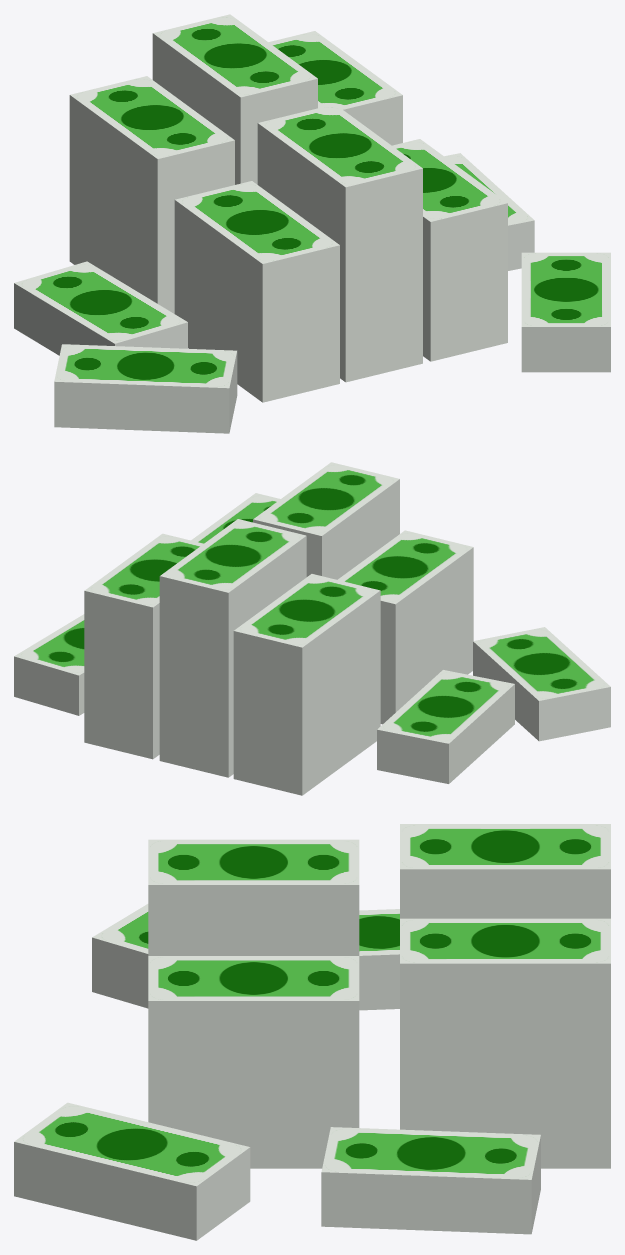
File: Prop_PileOfMoney.fbx
3 views of the same model, one above another, from view 1: azimuth 30°, elevation 25°; view 2: azimuth 150°, elevation 25°; view 3: azimuth 270°, elevation 25° (orthographic). The views are drawn at different scales.
Visible parts, largest first — view 1: Prop_PileOfMoney; view 2: Prop_PileOfMoney; view 3: Prop_PileOfMoney.
Boxes of the visible parts, x1,y1,x2,y2 form: Prop_PileOfMoney: (14,14,610,433); Prop_PileOfMoney: (14,462,610,795); Prop_PileOfMoney: (14,824,610,1240).
Size of the model in its own units: 212 by 76.58 by 166.
